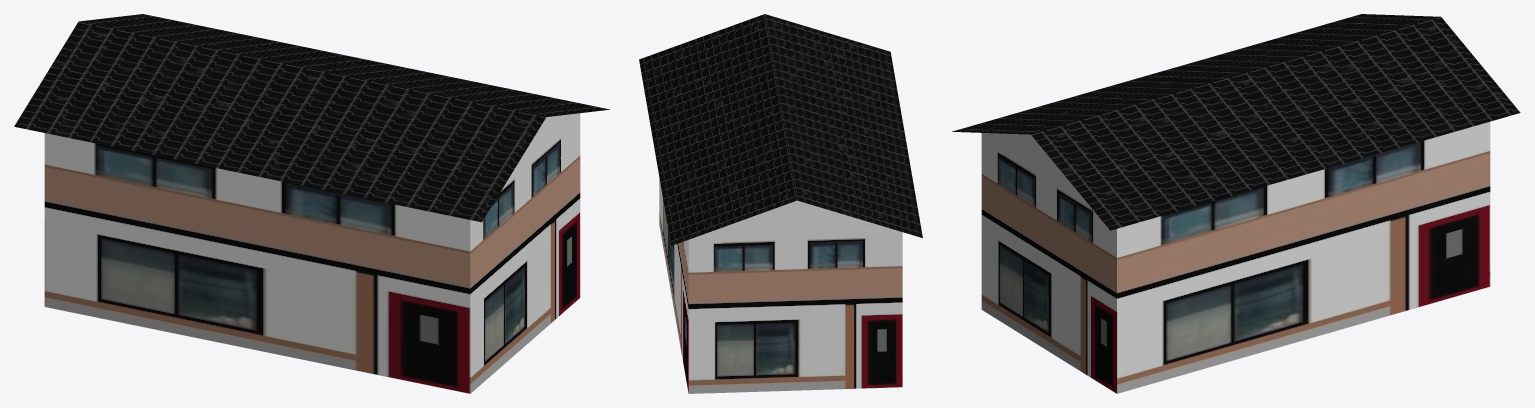
3 views of the same model, side by side, from view 1: azimuth 30°, elevation 25°; view 2: azimuth 150°, elevation 25°; view 3: azimuth 270°, elevation 25° (orthographic). The views are drawn at different scales.
Visible parts, largest first — view 1: CityEngineMaterial_5_m, CityEngineMaterial_14_m; view 2: CityEngineMaterial_14_m, CityEngineMaterial_5_m, CityEngineMaterial_3_m; view 3: CityEngineMaterial_5_m, CityEngineMaterial_14_m, CityEngineMaterial_3_m.
Part boxes in pixels (box(x1,y1,x2,y2)): CityEngineMaterial_5_m: box(44, 113, 580, 393); CityEngineMaterial_14_m: box(14, 14, 609, 222); CityEngineMaterial_14_m: box(639, 14, 922, 245); CityEngineMaterial_5_m: box(659, 178, 902, 393); CityEngineMaterial_3_m: box(716, 200, 877, 229); CityEngineMaterial_5_m: box(981, 122, 1490, 393); CityEngineMaterial_14_m: box(952, 14, 1520, 230); CityEngineMaterial_3_m: box(992, 133, 1069, 181).
Size of the model in its own units: 22.87 by 10.96 by 25.4.
